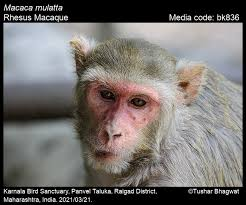monkey: (48, 30, 202, 179)
